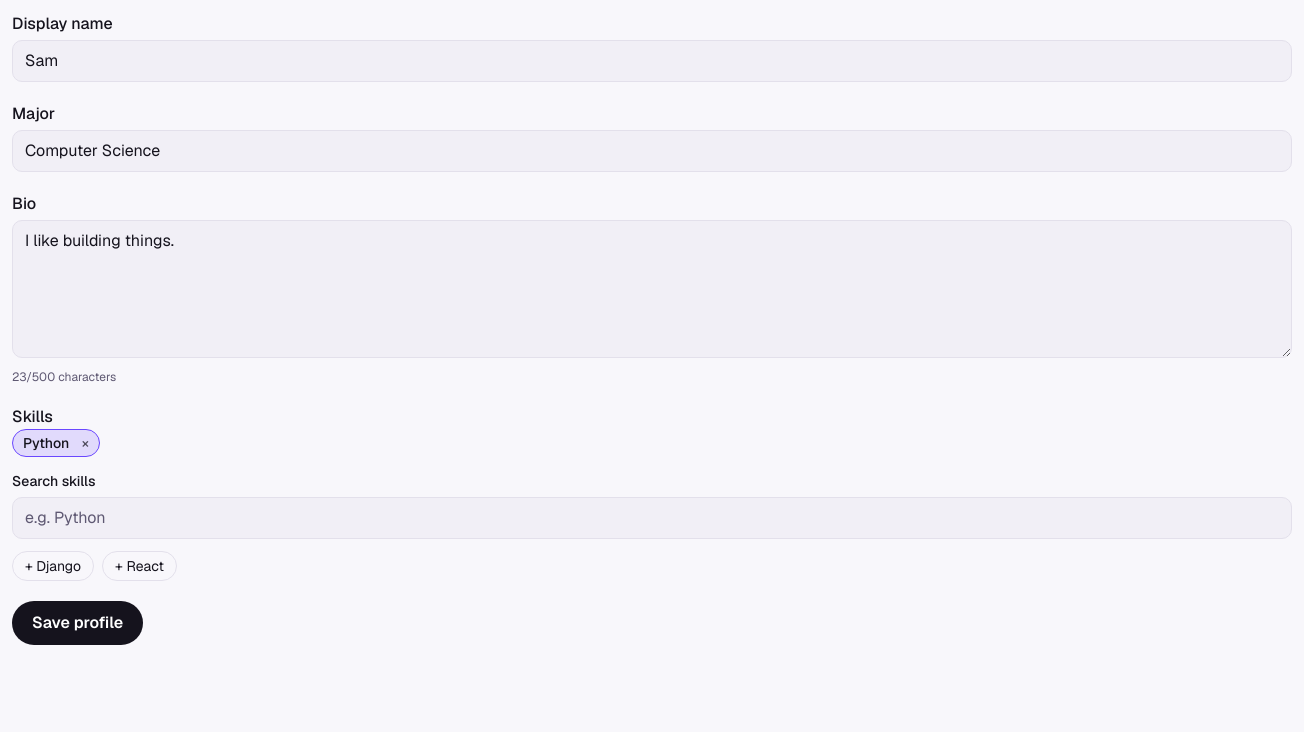
Test: shows the server's message next to the field
Click the button "Save profile" at (78, 623), box [12,601,143,645]
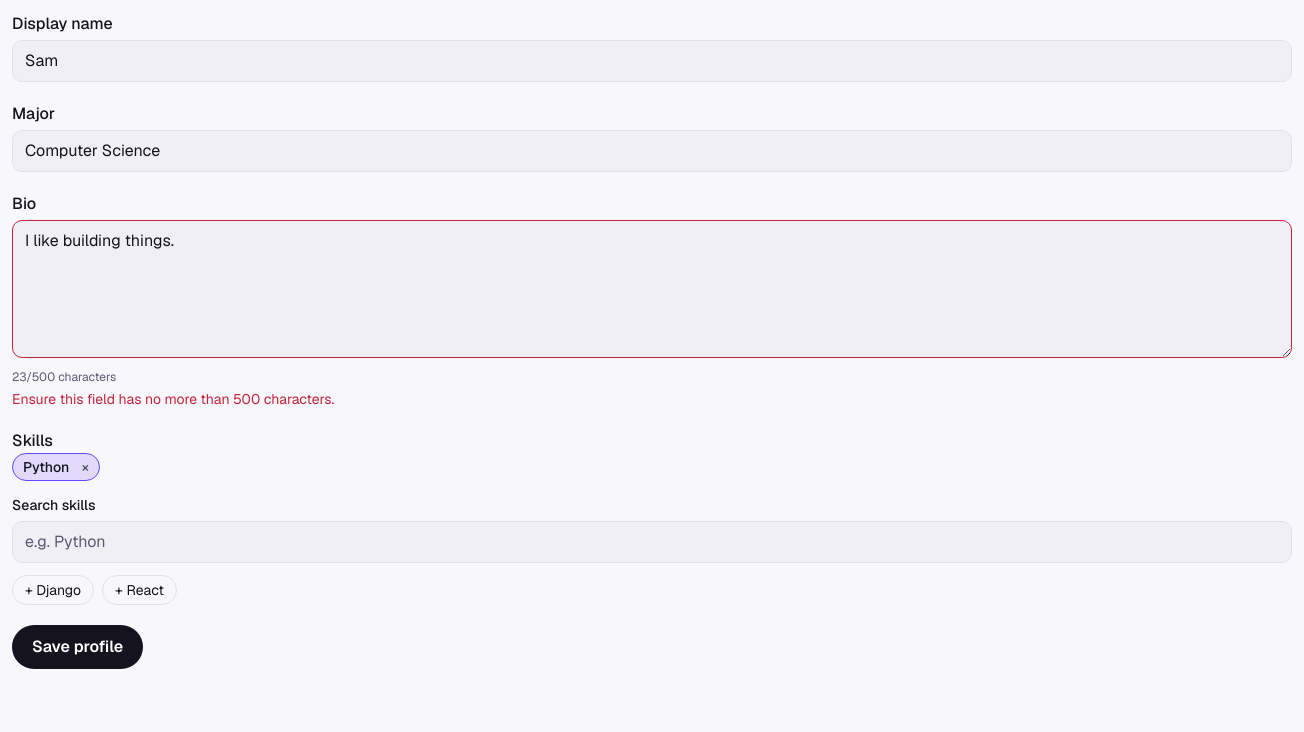
Expected: the text "Ensure this field has no more than 500 characters." is shown, [12,390,334,408]
